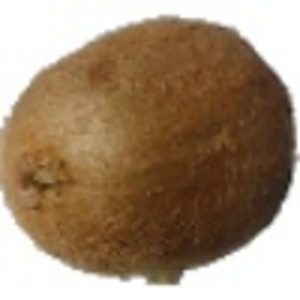kiwi: (1, 15, 300, 289)
